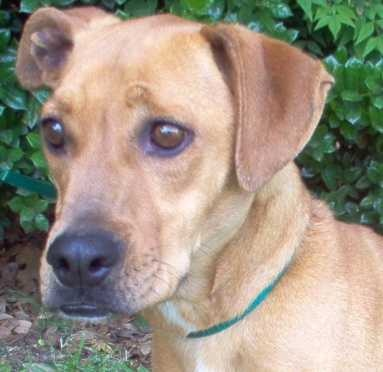dog: (0, 6, 383, 372)
